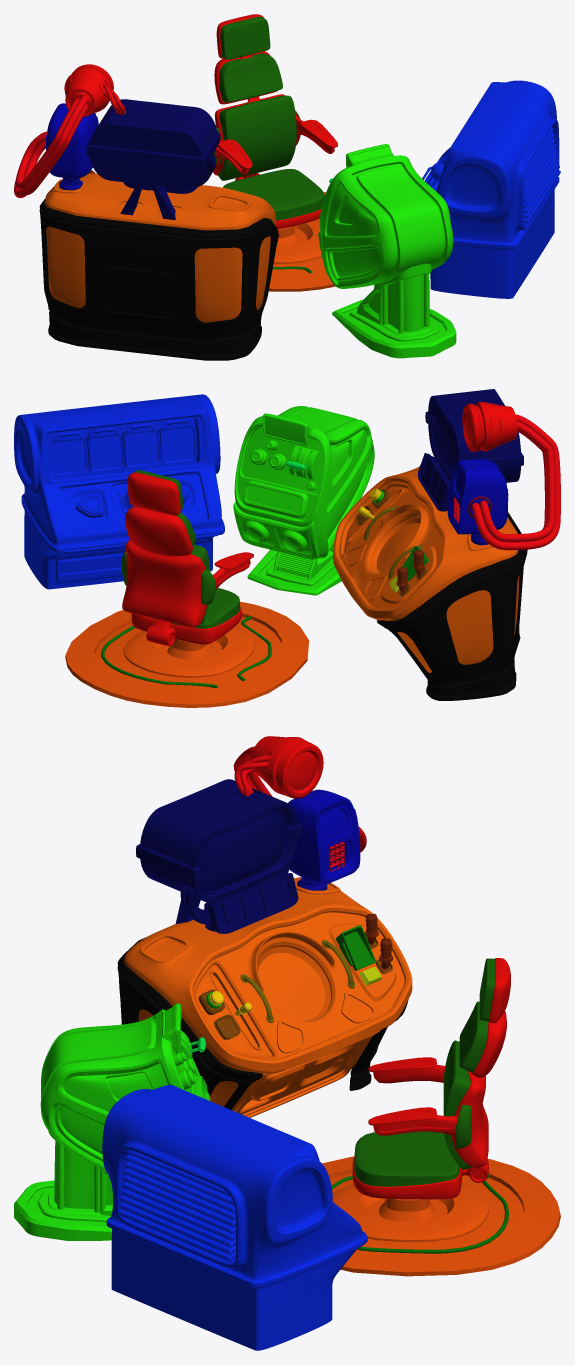
File: MachineIterTwo.fbx
3 renders of one model, top to bottom at view 1: azimuth 30°, elevation 25°; view 2: azimuth 150°, elevation 25°; view 3: azimuth 270°, elevation 25°, orthographic. The views are drawn at different scales.
Parts seen in each view (by area): view 1: Maquina3Base, Maquina2Base, Maquina1Base, Mk4, Chair, ChairBase; view 2: Maquina3Base, Maquina2Base, Maquina1Base, ChairBase, Mk4, Chair, Screen4_MK2, Screen3_MK2, Screen1_MK2, Screen2_MK2, Lights_MK2; view 3: Maquina2Base, Maquina3Base, Mk4, Maquina1Base, Chair, ChairBase.
Boxes of the visible parts, <box> form: Maquina3Base: <box>39,170,278,360</box>; Maquina2Base: <box>422,80,560,298</box>; Maquina1Base: <box>318,144,456,358</box>; Mk4: <box>14,64,220,219</box>; Chair: <box>213,14,337,228</box>; ChairBase: <box>268,192,335,291</box>; Maquina3Base: <box>333,465,527,700</box>; Maquina2Base: <box>14,394,224,589</box>; Maquina1Base: <box>233,406,374,595</box>; ChairBase: <box>65,601,309,707</box>; Mk4: <box>418,389,560,550</box>; Chair: <box>121,470,253,645</box>; Screen4_MK2: <box>158,424,197,463</box>; Screen3_MK2: <box>122,428,161,467</box>; Screen1_MK2: <box>51,436,88,475</box>; Screen2_MK2: <box>85,432,123,471</box>; Lights_MK2: <box>53,419,191,441</box>; Maquina2Base: <box>102,1084,367,1350</box>; Maquina3Base: <box>117,877,412,1117</box>; Mk4: <box>136,736,366,933</box>; Maquina1Base: <box>14,1003,210,1240</box>; Chair: <box>352,958,510,1199</box>; ChairBase: <box>322,1156,560,1276</box>.
Size of the model in its own units: 462 by 220 by 327.
